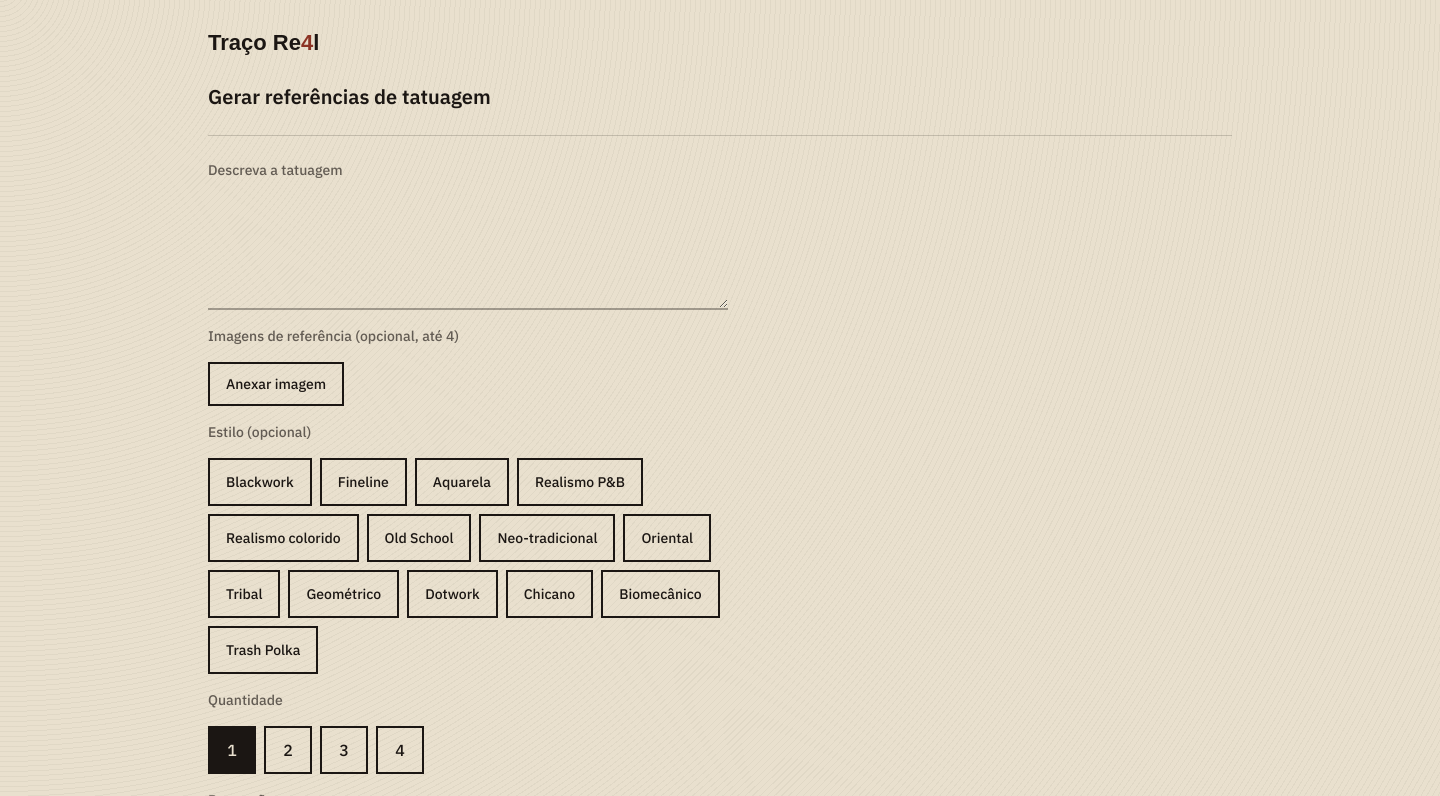
Test: Home › mostra a mensagem de erro e quantas restam quando a resposta e 409
The width and height of the screenshot is (1440, 796).
Step 1. Type "um dragão em aquarela" into the text box labelled "Descreva a tatuagem" → (468, 253), box x1=208 y1=196 x2=728 y2=310
(page scrolled)
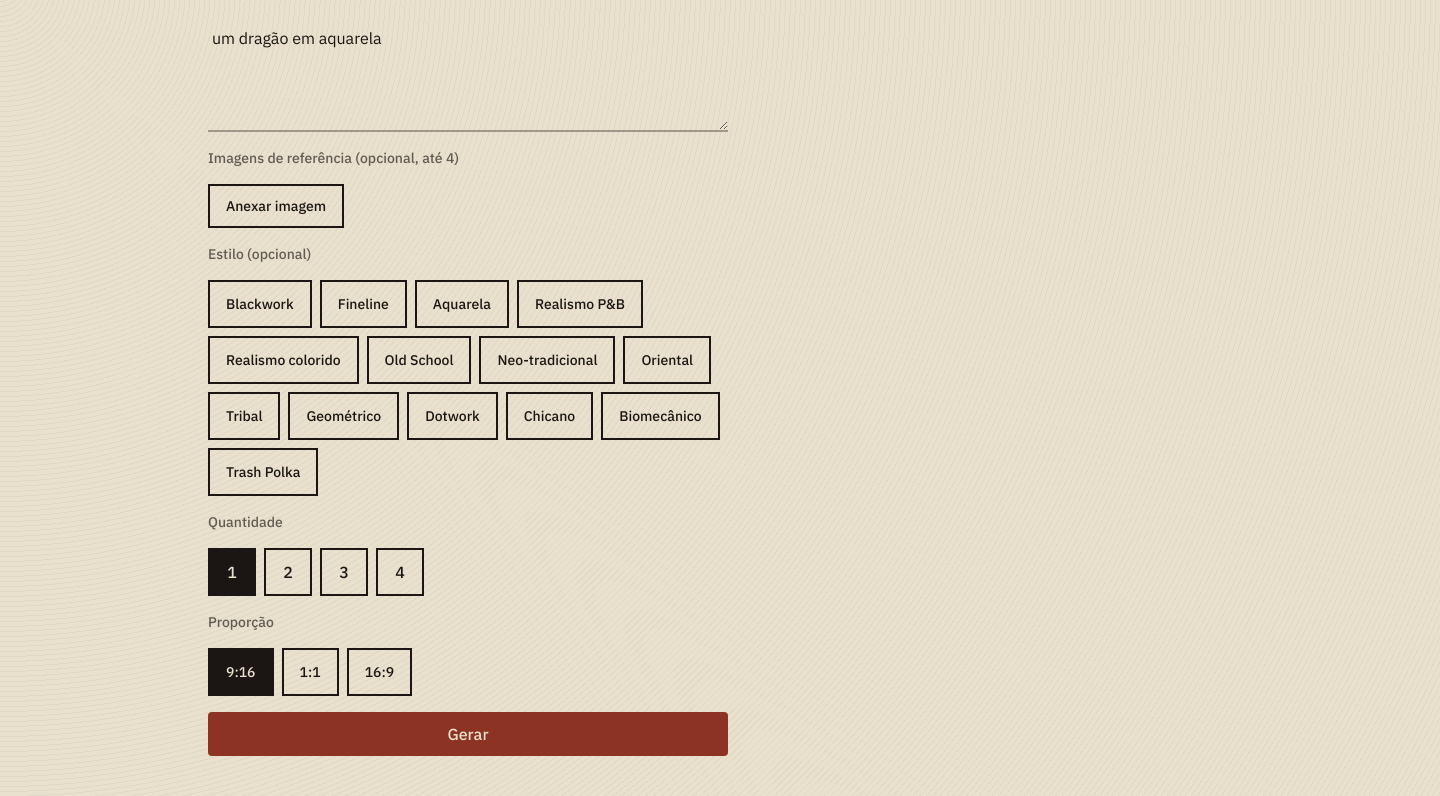
Step 2. Click the button "Gerar" → click(468, 734), box x1=208 y1=712 x2=728 y2=756
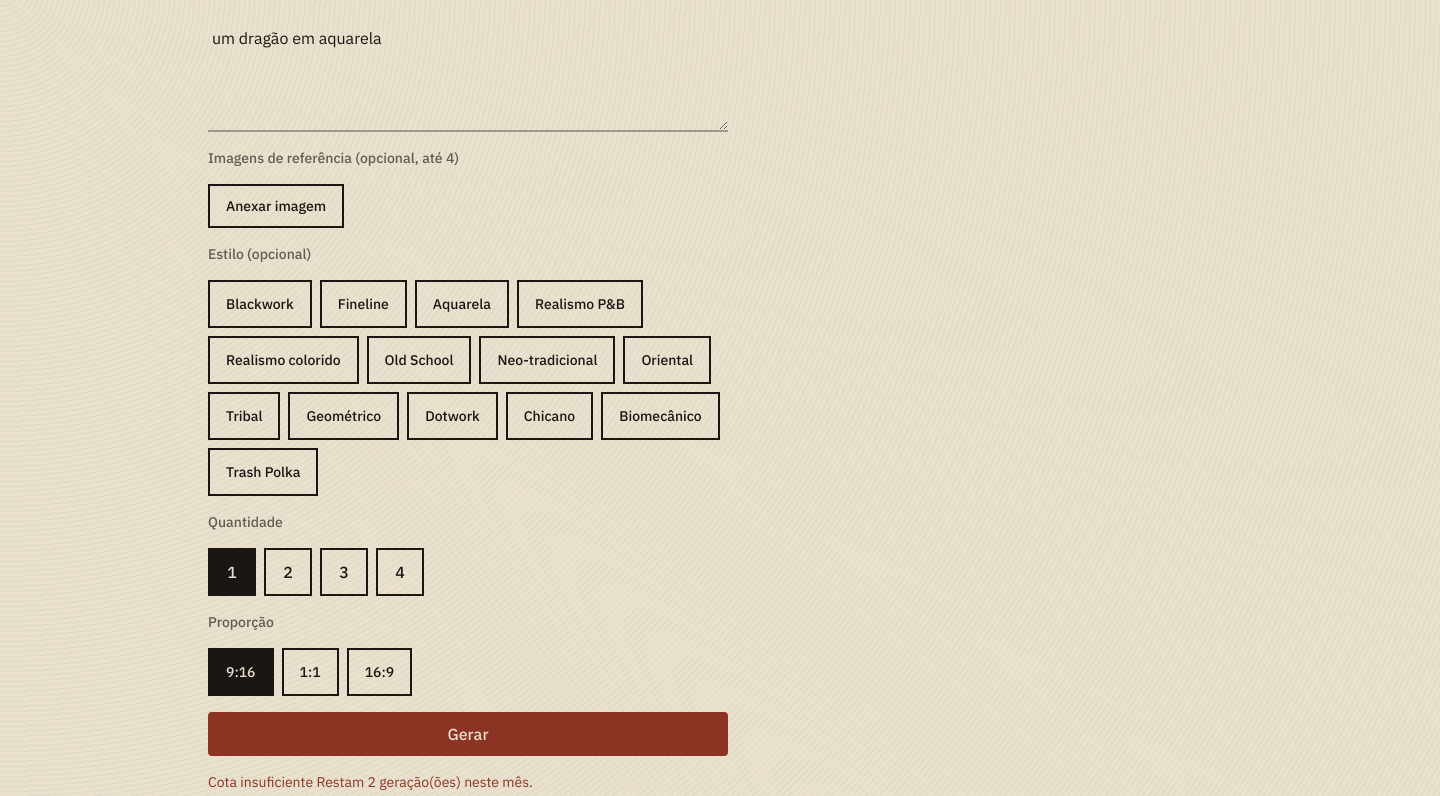
Result: the text "Cota insuficiente Restam 2 geração(ões) neste mês." is shown at x1=208 y1=773 x2=533 y2=791
